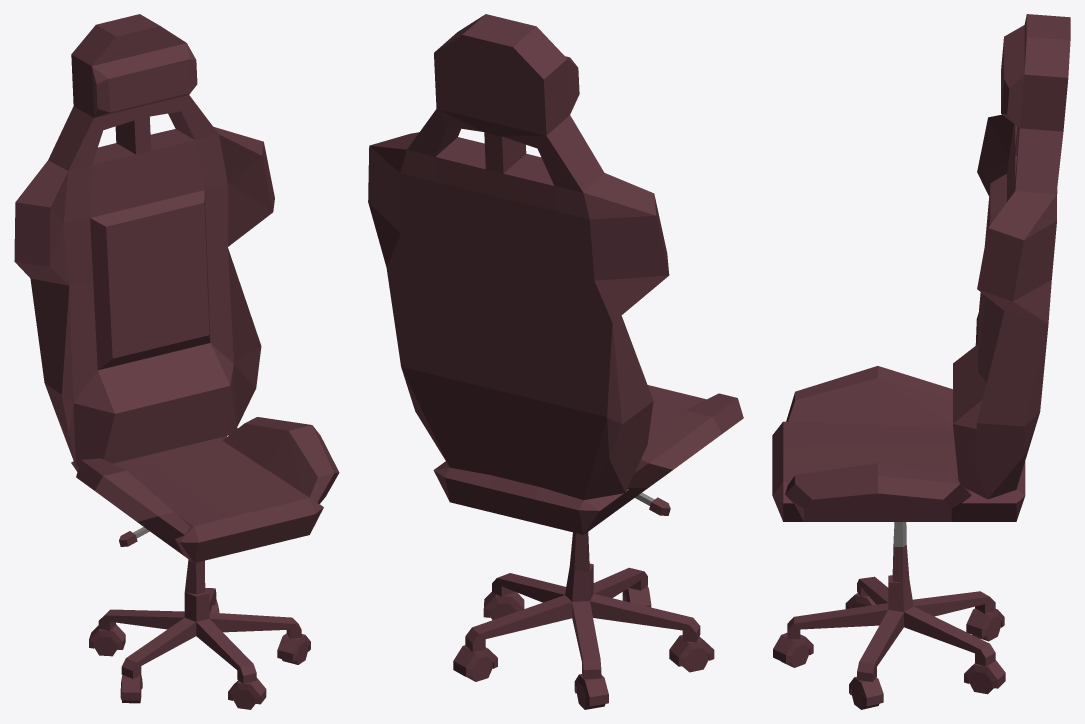
Rendered from furniture-chair-gaming.glb.
The picture shows the model from 3 angles, left to right: view 1: azimuth 30°, elevation 25°; view 2: azimuth 150°, elevation 25°; view 3: azimuth 270°, elevation 25°; orthographic projection. The views are drawn at different scales.
Visible parts, largest first — view 1: chair-gaming; view 2: chair-gaming; view 3: chair-gaming.
Boxes of the visible parts, x1,y1,x2,y2 form: chair-gaming: (14,14,339,709); chair-gaming: (368,14,743,709); chair-gaming: (772,14,1070,709).
Bounding box in the file's own units: 0.734 × 1.6 × 0.6783.
